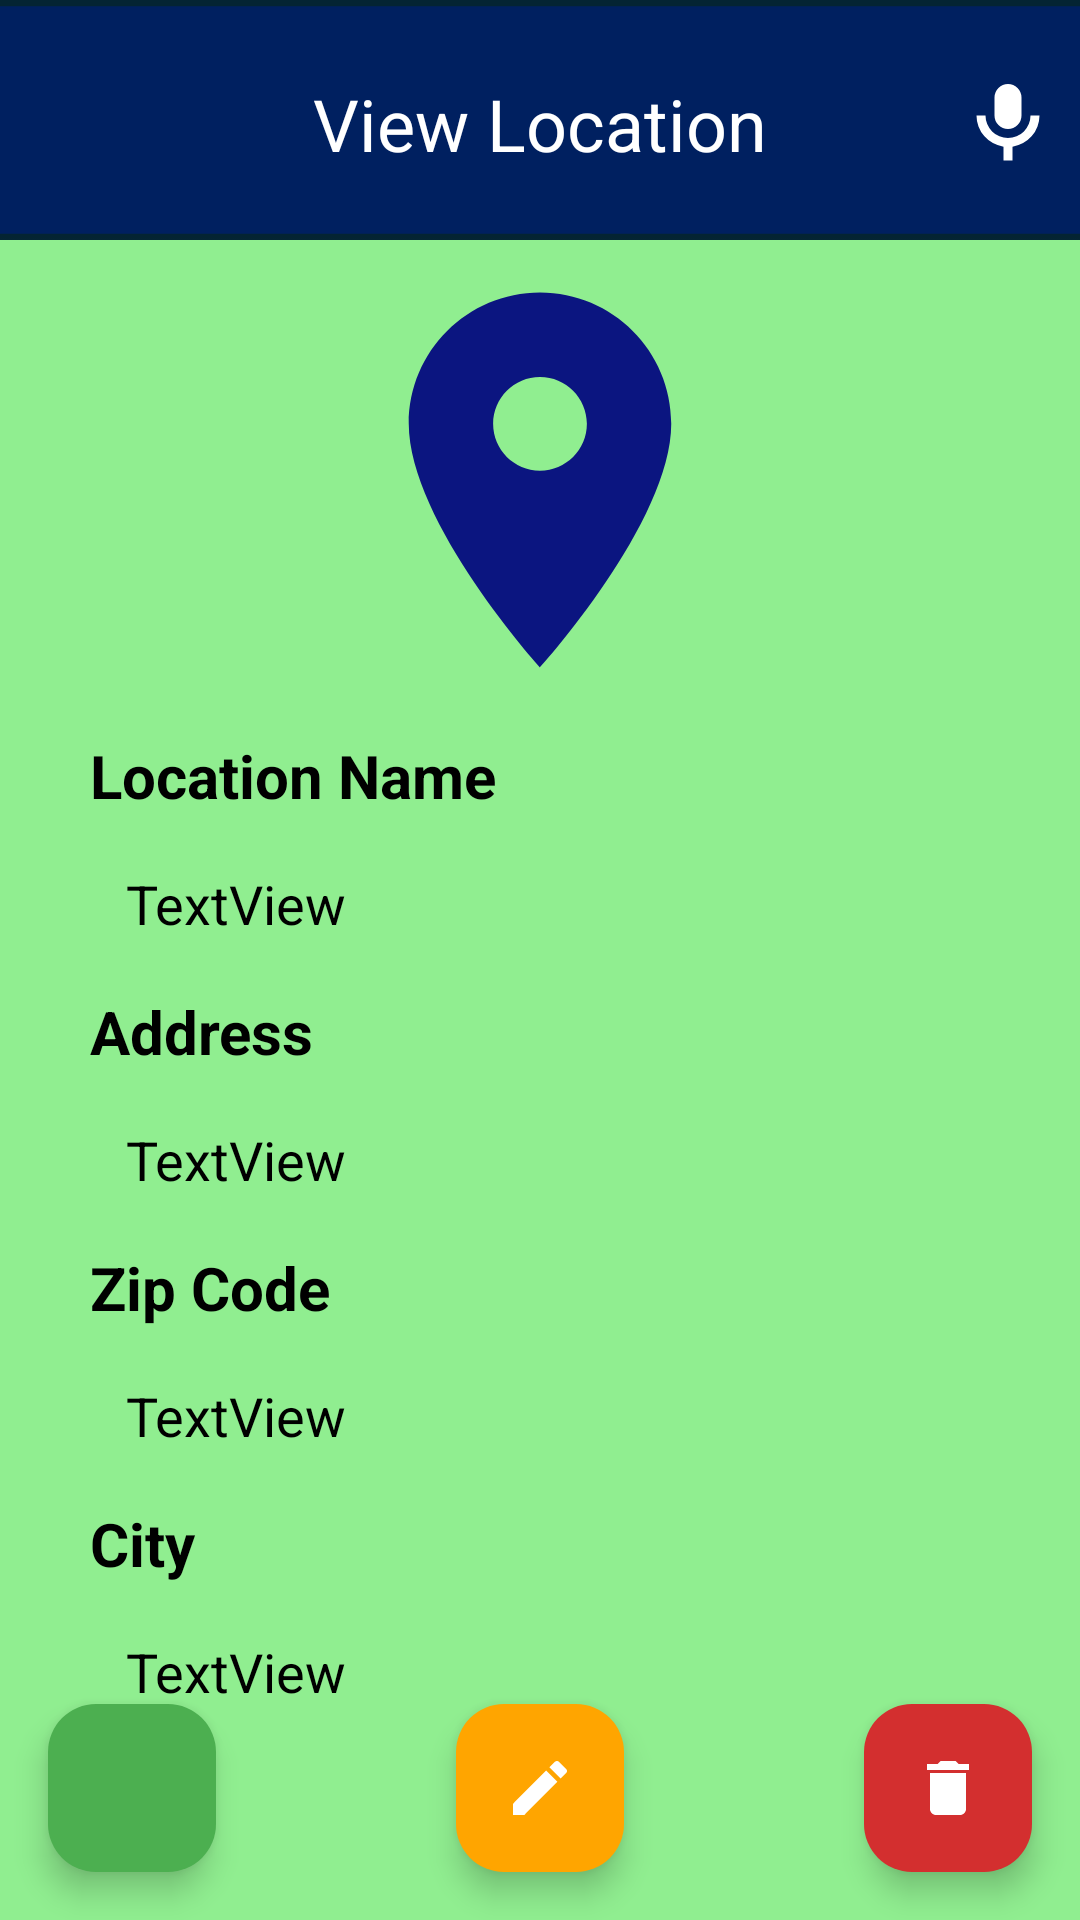

Icons on this 1080 × 1920 Android screen, each with its box as (x1, y1, x2, y2):
delete: (864, 1704, 1032, 1872)
edit: (456, 1704, 624, 1872)
